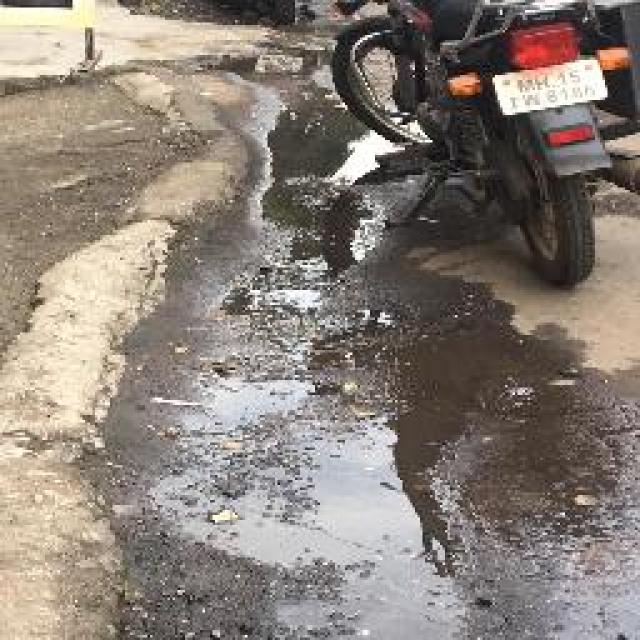puddle: (307, 325, 513, 640), (258, 98, 436, 278)
